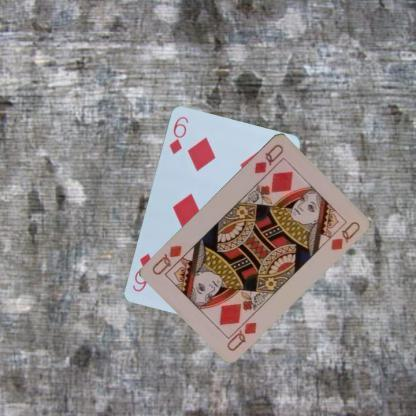6d: (166, 113, 190, 155)
Qd: (224, 312, 258, 352), (251, 141, 285, 175)
